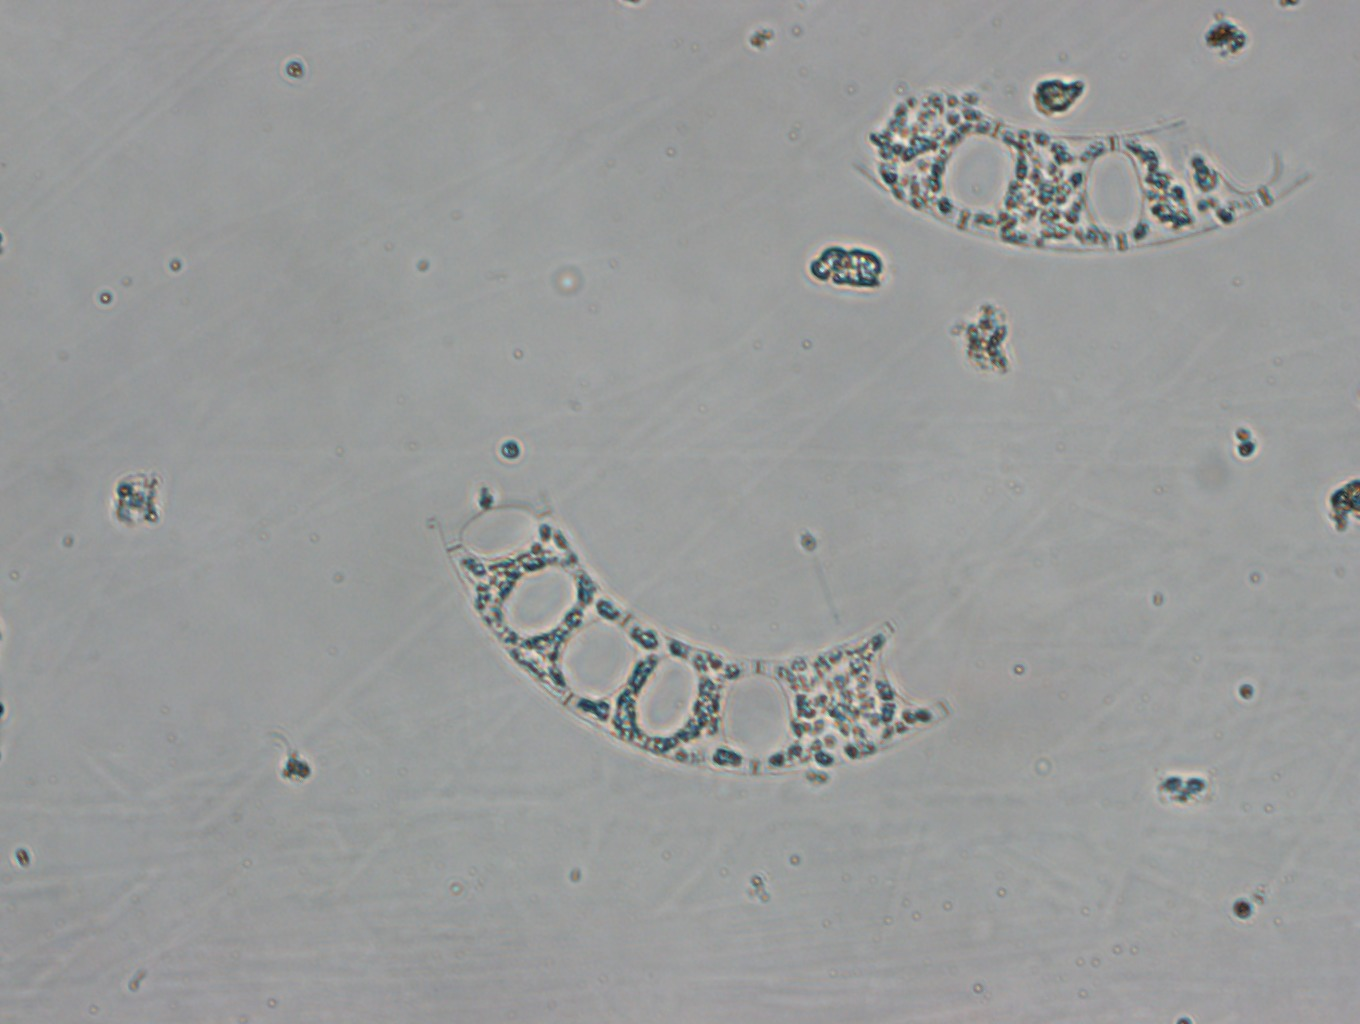eucampia: (440, 494, 944, 778), (849, 91, 1315, 252)
